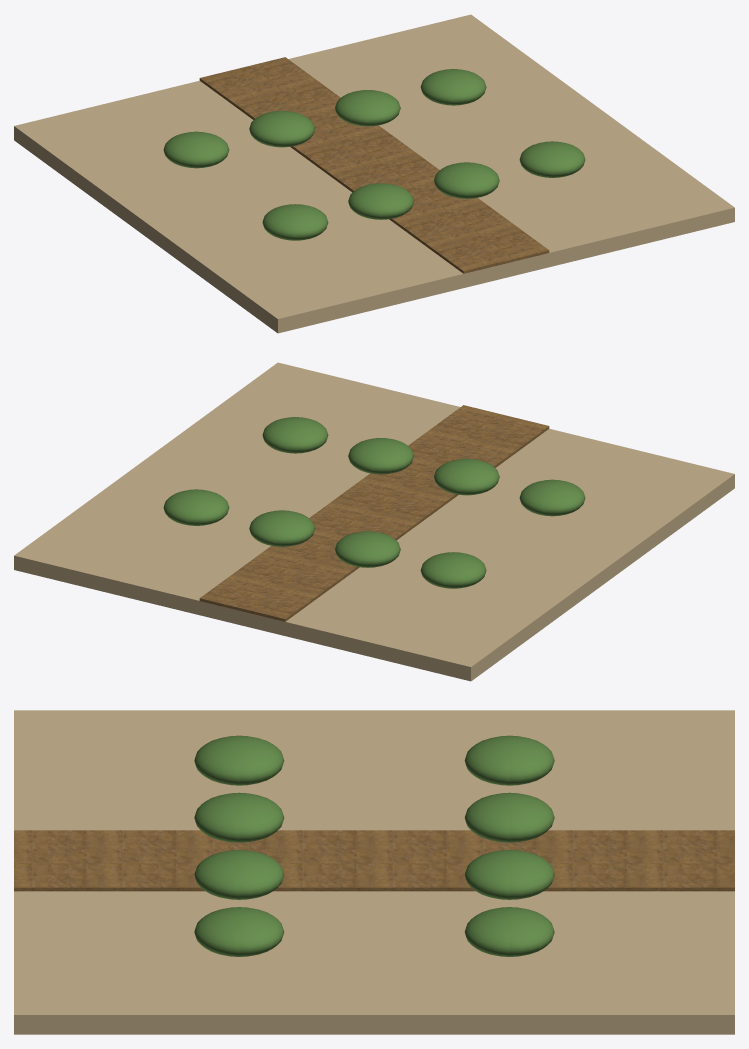
File: jardim.glb
3 views of the same model, one above another, from view 1: azimuth 30°, elevation 25°; view 2: azimuth 150°, elevation 25°; view 3: azimuth 270°, elevation 25° (orthographic). The views are drawn at different scales.
Visible parts, largest first — view 1: Base ilustrativa, Caminho, Canteiro.005, Canteiro.003, Canteiro, Canteiro.007, Canteiro.006, Canteiro.002, Canteiro.004, Canteiro.001; view 2: Base ilustrativa, Caminho, Canteiro.001, Canteiro.007, Canteiro.003, Canteiro.004, Canteiro.002, Canteiro.006, Canteiro, Canteiro.005; view 3: Base ilustrativa, Caminho, Canteiro, Canteiro.004, Canteiro.003, Canteiro.007, Canteiro.002, Canteiro.006, Canteiro.001, Canteiro.005.
Boxes of the visible parts, bbox=[...] form: Base ilustrativa: bbox=[14, 14, 734, 333]; Caminho: bbox=[199, 57, 549, 273]; Canteiro.005: bbox=[348, 183, 413, 219]; Canteiro.003: bbox=[420, 69, 486, 105]; Canteiro: bbox=[163, 131, 229, 168]; Canteiro.007: bbox=[519, 141, 585, 177]; Canteiro.006: bbox=[434, 162, 499, 198]; Canteiro.002: bbox=[335, 90, 400, 126]; Canteiro.004: bbox=[262, 204, 328, 240]; Canteiro.001: bbox=[249, 110, 314, 147]; Base ilustrativa: bbox=[14, 362, 734, 681]; Caminho: bbox=[199, 405, 549, 621]; Canteiro.001: bbox=[335, 531, 400, 567]; Canteiro.007: bbox=[262, 417, 328, 453]; Canteiro.003: bbox=[163, 489, 229, 525]; Canteiro.004: bbox=[519, 479, 585, 516]; Canteiro.002: bbox=[249, 510, 314, 546]; Canteiro.006: bbox=[348, 438, 413, 474]; Canteiro: bbox=[420, 552, 486, 588]; Canteiro.005: bbox=[434, 458, 499, 495]; Base ilustrativa: bbox=[14, 710, 734, 1034]; Caminho: bbox=[14, 830, 734, 891]; Canteiro: bbox=[464, 735, 554, 785]; Canteiro.004: bbox=[194, 735, 284, 785]; Canteiro.003: bbox=[464, 907, 554, 956]; Canteiro.007: bbox=[194, 907, 284, 956]; Canteiro.002: bbox=[464, 850, 554, 899]; Canteiro.006: bbox=[194, 850, 284, 899]; Canteiro.001: bbox=[464, 792, 554, 842]; Canteiro.005: bbox=[194, 792, 284, 842].
Bounding box in the file's own units: 8 × 0.64 × 8.
3 materials, 1 textured.
